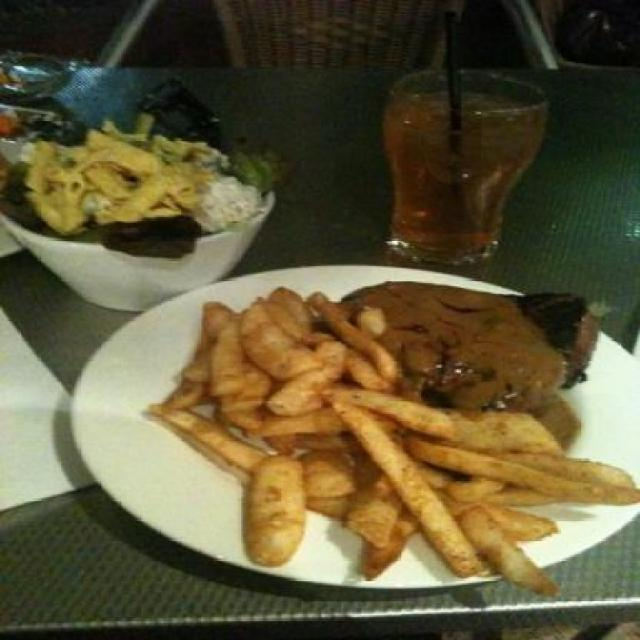French fries: (138, 308, 594, 586)
Steak: (326, 258, 600, 404)
